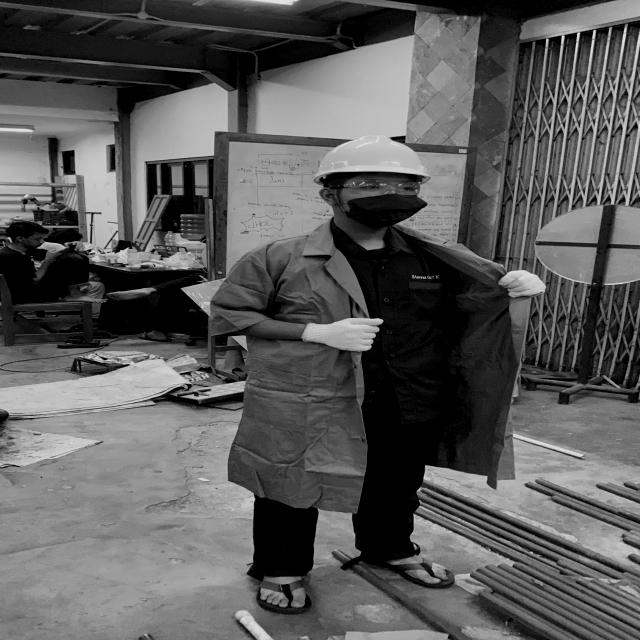face_mask: (338, 174, 431, 222)
glasses: (328, 178, 427, 198)
hand_glove: (294, 309, 388, 357), (494, 265, 552, 301)
head_helmet: (309, 132, 438, 183)
person: (204, 126, 556, 614)
